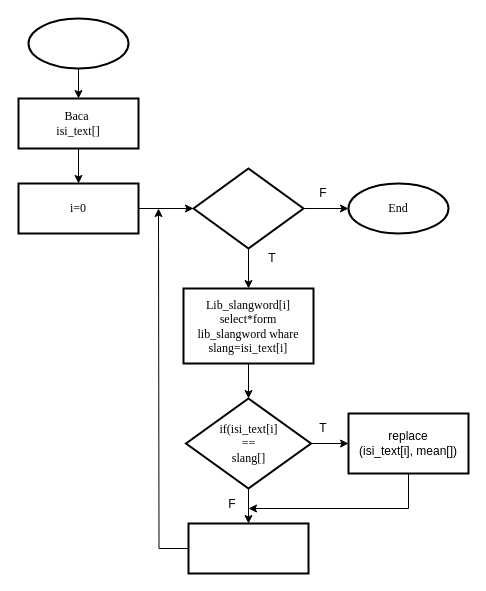
Some shapes in this 486 by 591 pixel diagram are drawn without their labels. The shapes that lost their labels are listed below. From the top down, each one's box as (x1, y1, x2, y2) in pixels, then its label:
(27, 17, 129, 69): Start
(192, 167, 304, 249): isi_text[i]!=null
(187, 522, 309, 574): i++
